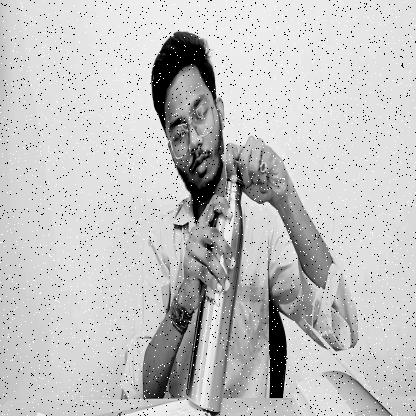Distracted: (146, 35, 226, 204)
